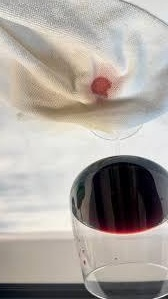wine: (87, 69, 114, 103)
